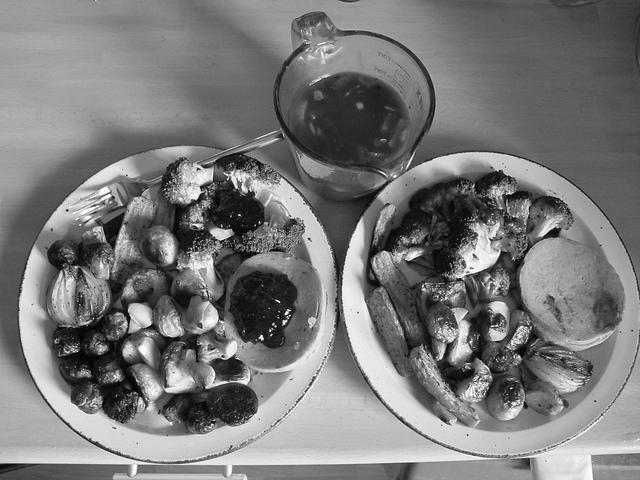cup: (245, 4, 444, 211)
